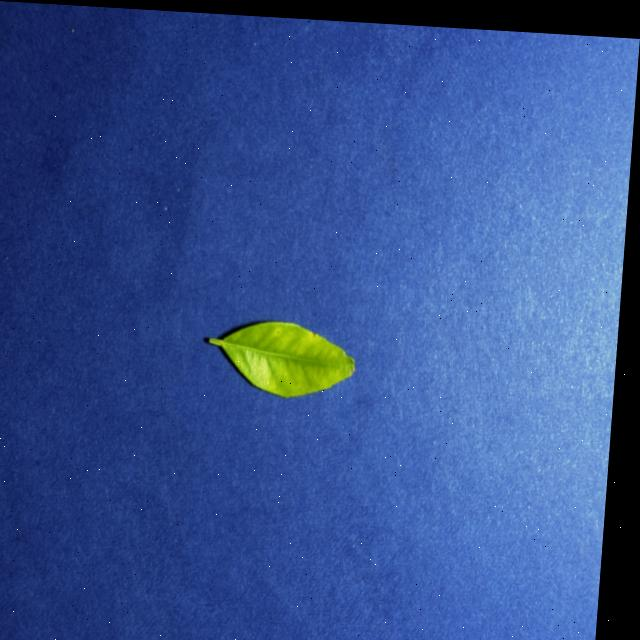greening: (209, 321, 354, 396)
